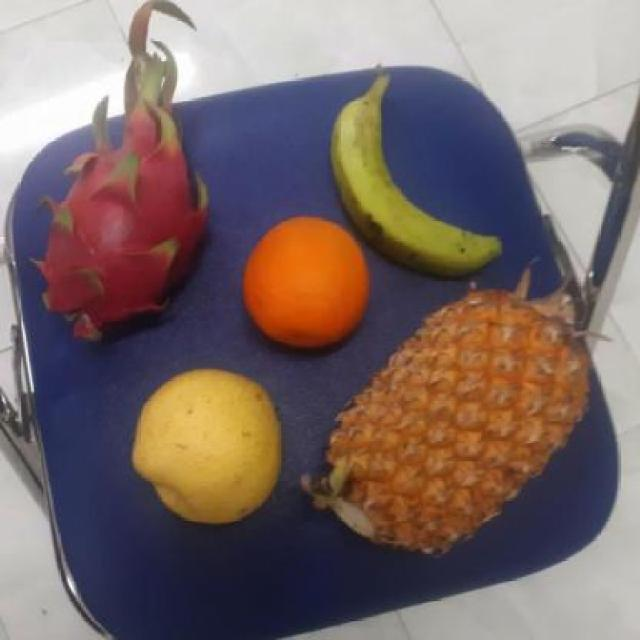dragon fruit: (33, 116, 212, 347)
oren: (235, 212, 374, 351)
pear: (127, 366, 288, 523)
pineapple: (319, 285, 606, 567)
